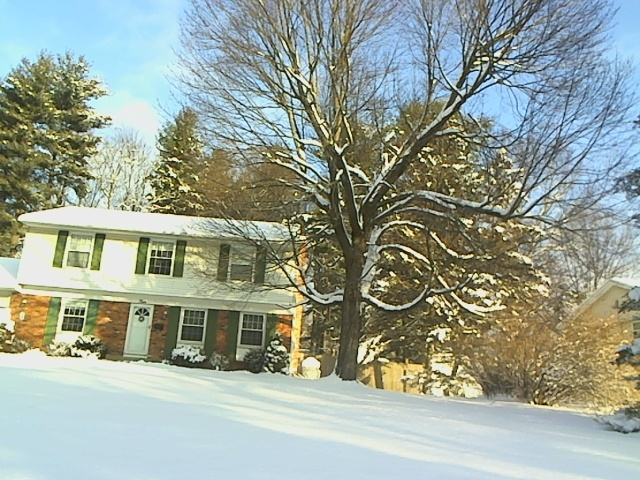Unploughed: (121, 302, 153, 441)
